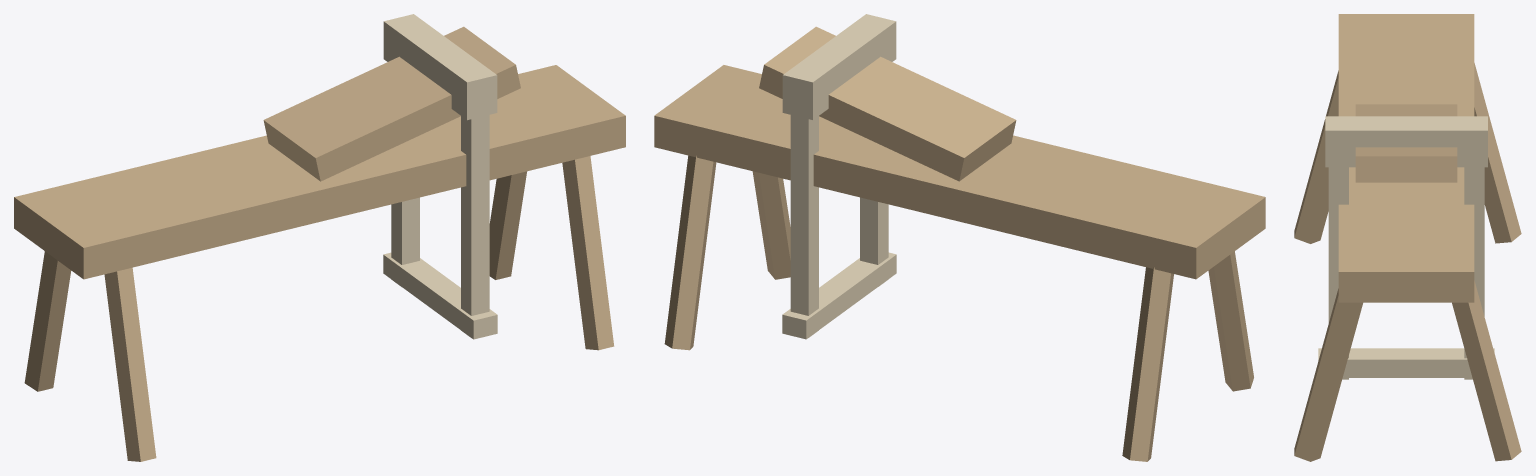
Rendered from prop-shaving-horse-clamp.fbx.
3 views of the same model, side by side, from view 1: azimuth 30°, elevation 25°; view 2: azimuth 150°, elevation 25°; view 3: azimuth 270°, elevation 25° (orthographic). The views are drawn at different scales.
Parts seen in each view (by area): view 1: prop-shaving-horse-clamp; view 2: prop-shaving-horse-clamp; view 3: prop-shaving-horse-clamp.
Part boxes in pixels (x1,y1,x2,y2): prop-shaving-horse-clamp: (14,14,625,461); prop-shaving-horse-clamp: (654,14,1265,461); prop-shaving-horse-clamp: (1294,14,1521,461).
Size of the model in its own units: 90 by 46.09 by 33.52.
